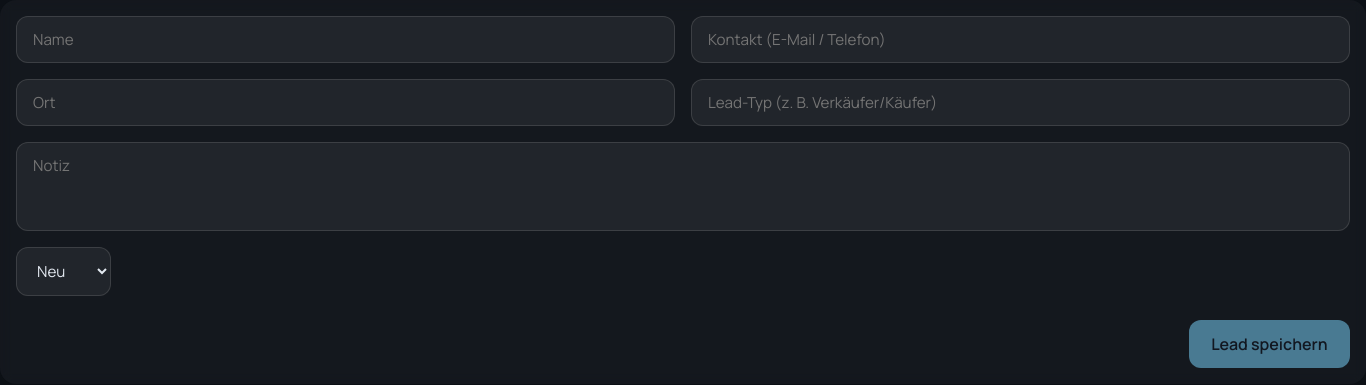
LeadForm › Loading State › should disable button during submission
Type "Test" into the field with placeholder "Name" at (346, 40), box [16,16,675,63]
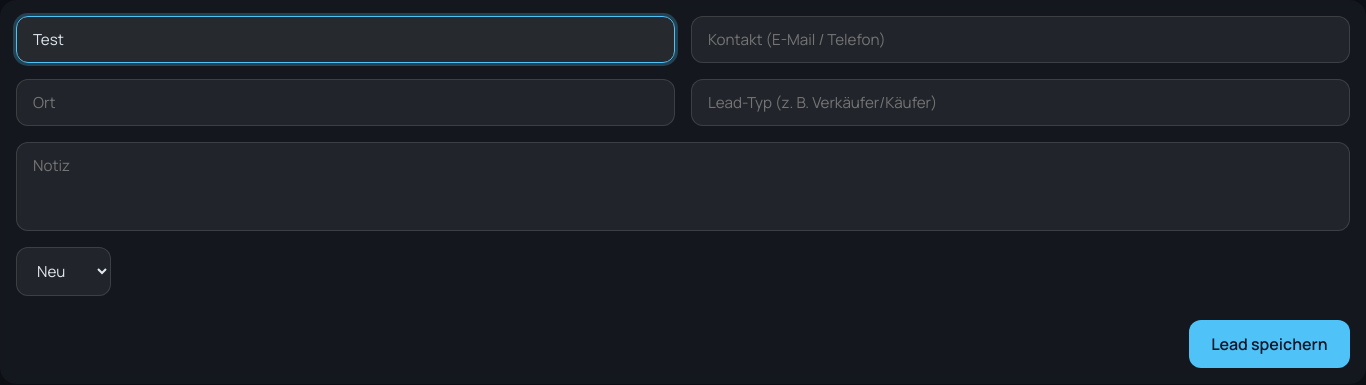
Click the button "Lead speichern" at (1269, 344), box [1189,320,1350,368]
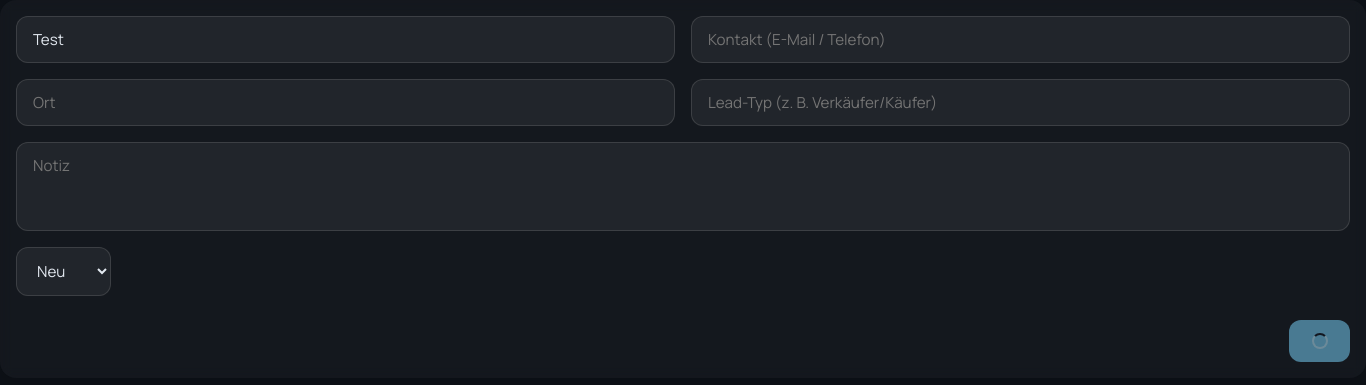
Now the button named "lead speichern" is disabled, box [1289,320,1350,362]
